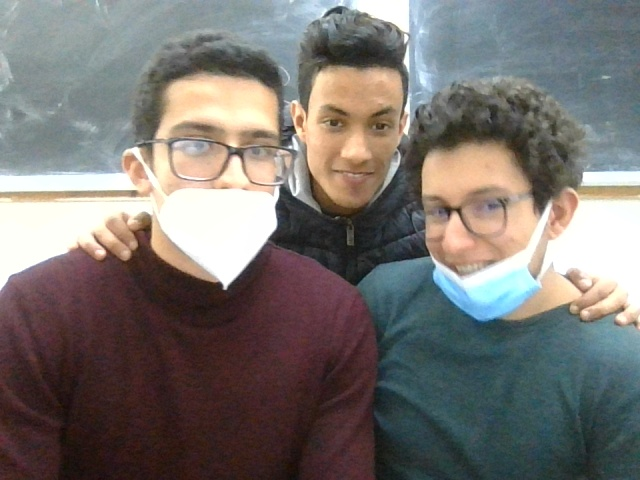mask_weared_incorrect: (416, 79, 591, 321), (136, 31, 286, 286)
without_mask: (284, 4, 425, 201)
